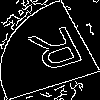R: (25, 25, 93, 82)
